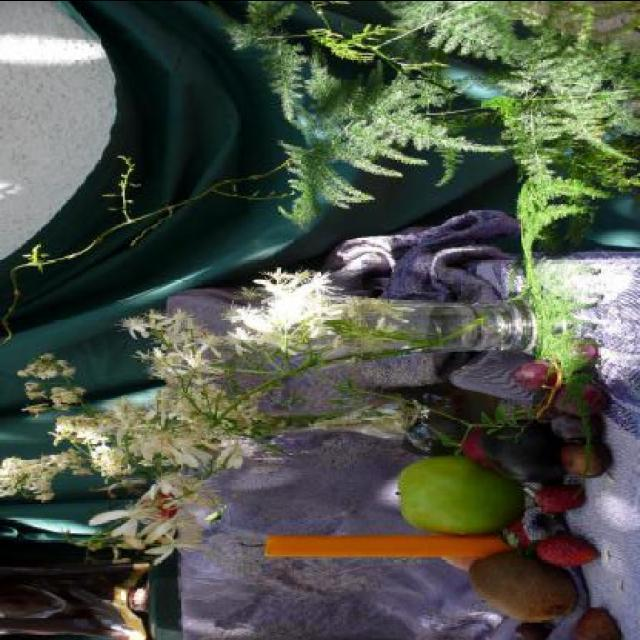Apple pie: (388, 460, 526, 542)
